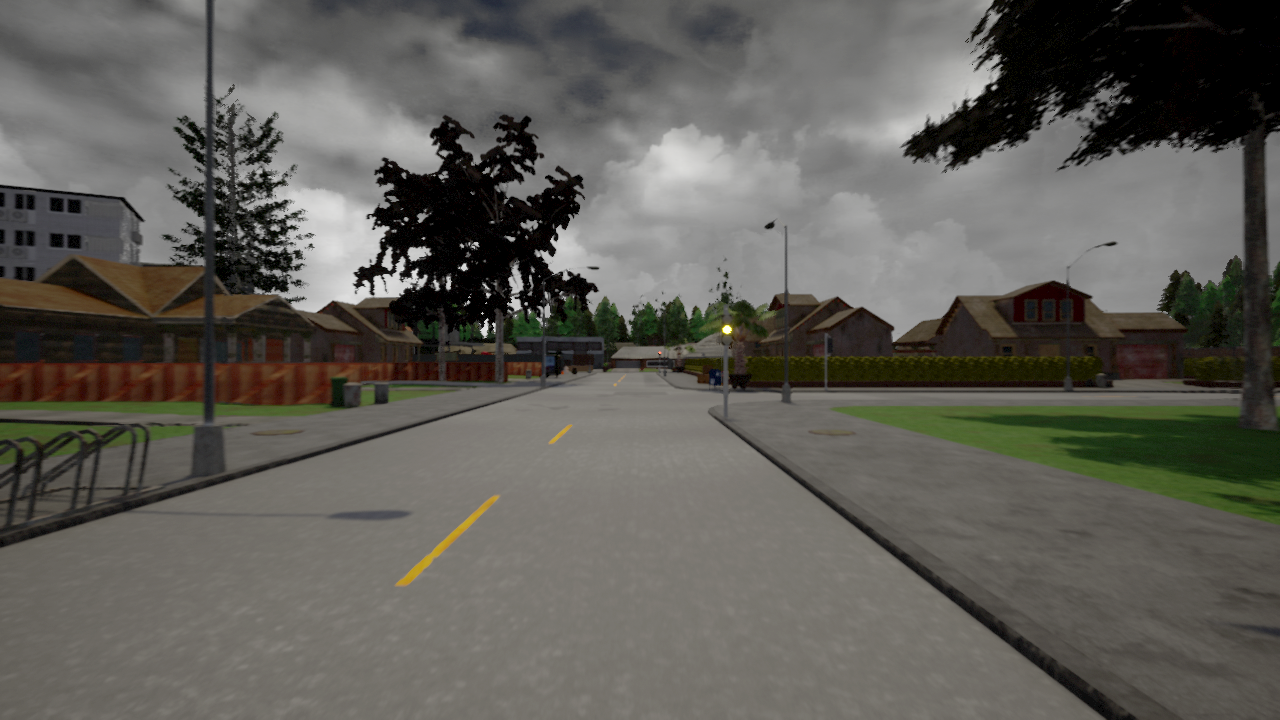yellow: (720, 313, 732, 347)
